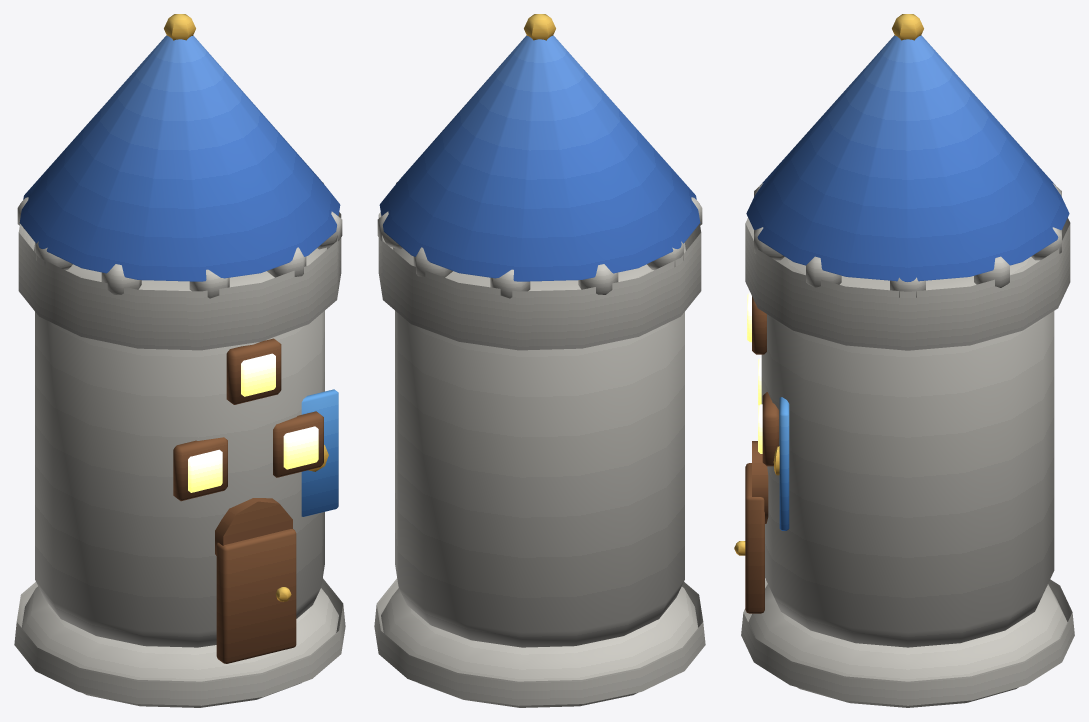
Rendered from keepB.glb.
3 renders of one model, left to right at view 1: azimuth 30°, elevation 25°; view 2: azimuth 150°, elevation 25°; view 3: azimuth 270°, elevation 25°, orthographic.
Parts seen in each view (by area): view 1: keepB; view 2: keepB; view 3: keepB.
Boxes of the visible parts, left/top/right/bottom form: keepB: left=14, top=14, right=345, bottom=707; keepB: left=374, top=14, right=705, bottom=707; keepB: left=734, top=14, right=1074, bottom=707.
Size of the model in its own units: 1.03 by 2.18 by 1.05.
1 material, 1 textured.
